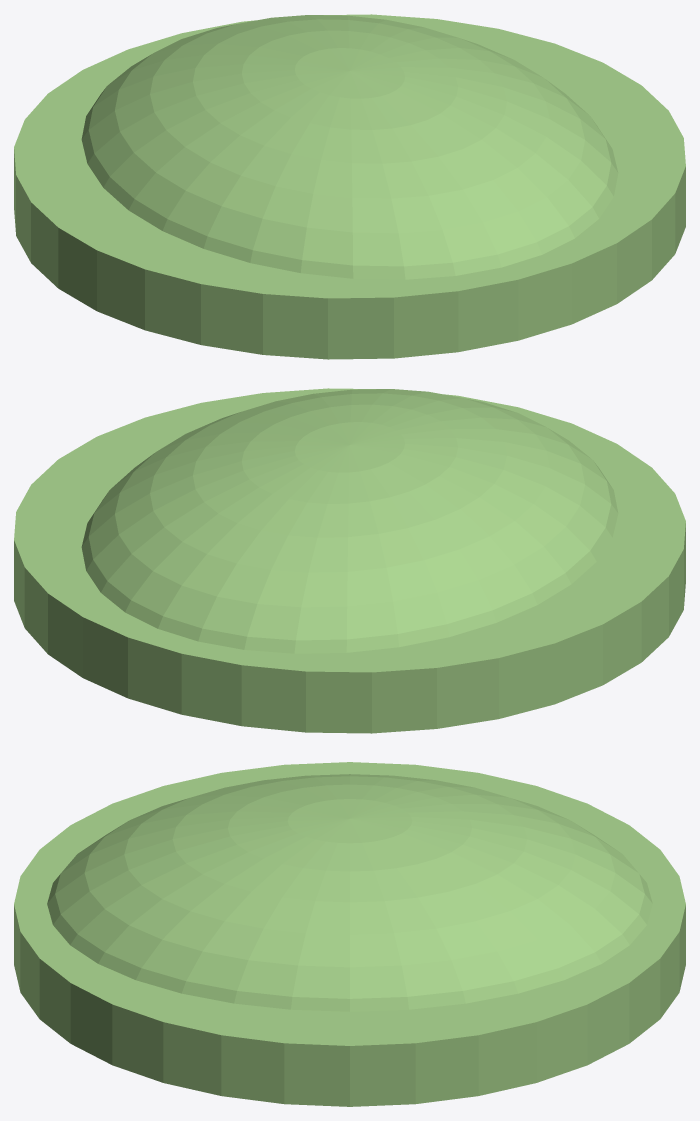
Rendered from hill.dae.
3 renders of one model, top to bottom at view 1: azimuth 30°, elevation 25°; view 2: azimuth 150°, elevation 25°; view 3: azimuth 270°, elevation 25°, orthographic.
Parts seen in each view (by area): view 1: Cylinder; view 2: Cylinder; view 3: Cylinder.
Boxes of the visible parts, x1,y1,x2,y2 form: Cylinder: [14, 14, 685, 359]; Cylinder: [14, 388, 685, 733]; Cylinder: [14, 762, 685, 1106].
Bounding box in the file's own units: 1000 × 1000 × 240.
